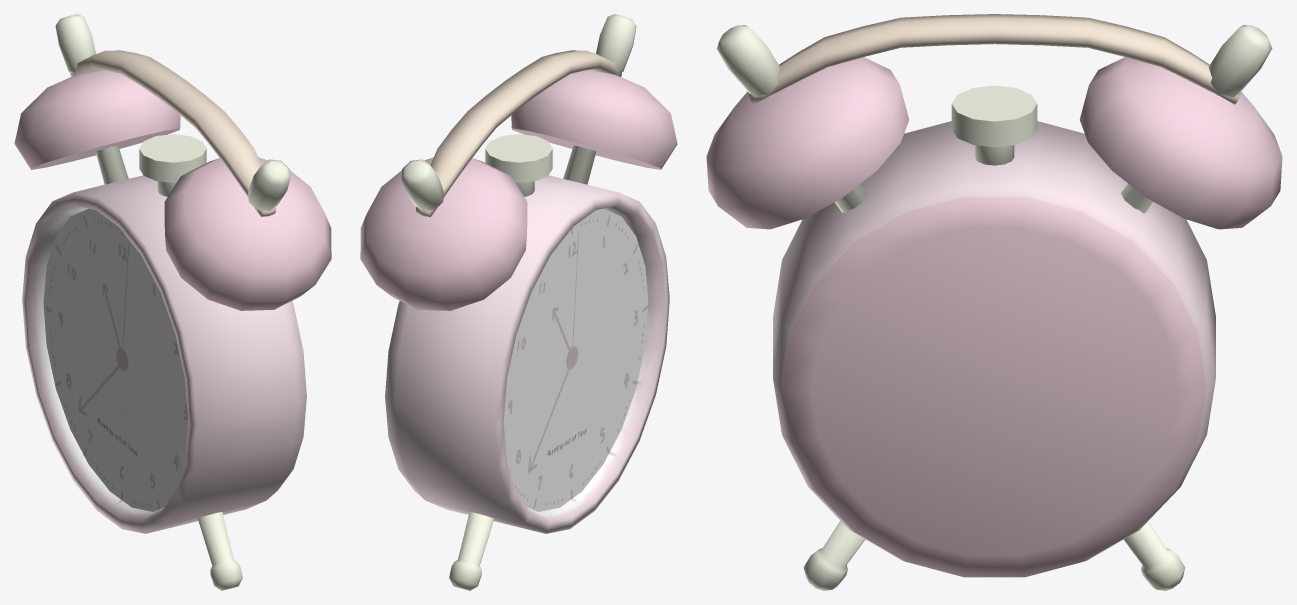
The model's file is clock.glb.
3 renders of one model, left to right at view 1: azimuth 30°, elevation 25°; view 2: azimuth 150°, elevation 25°; view 3: azimuth 270°, elevation 25°, orthographic. The views are drawn at different scales.
Visible parts, largest first — view 1: Cylinder, Sphere.001, Cube, Cylinder.003, Cylinder.001, Cylinder.002; view 2: Cylinder, Sphere.001, Cube, Cylinder.003, Cylinder.001, Cylinder.002; view 3: Cylinder, Sphere.001, Cube, Cylinder.003, Cylinder.001, Cylinder.002.
Part boxes in pixels (<box>): Cylinder: <box>22,175,306,533</box>; Sphere.001: <box>14,69,331,310</box>; Cube: <box>70,50,275,217</box>; Cylinder.003: <box>55,14,290,210</box>; Cylinder.001: <box>139,134,206,196</box>; Cylinder.002: <box>198,512,242,590</box>; Cylinder: <box>385,175,669,533</box>; Sphere.001: <box>360,69,677,310</box>; Cube: <box>416,50,621,217</box>; Cylinder.003: <box>401,14,636,210</box>; Cylinder.001: <box>485,134,552,196</box>; Cylinder.002: <box>449,512,493,590</box>; Cylinder: <box>773,121,1215,577</box>; Sphere.001: <box>706,57,1282,229</box>; Cube: <box>748,14,1240,104</box>; Cylinder.003: <box>716,25,1272,213</box>; Cylinder.001: <box>951,85,1037,165</box>; Cylinder.002: <box>803,520,1185,590</box>.
Bounding box in the file's own units: 0.987 × 2.88 × 2.6.
2 materials, 2 textured.
